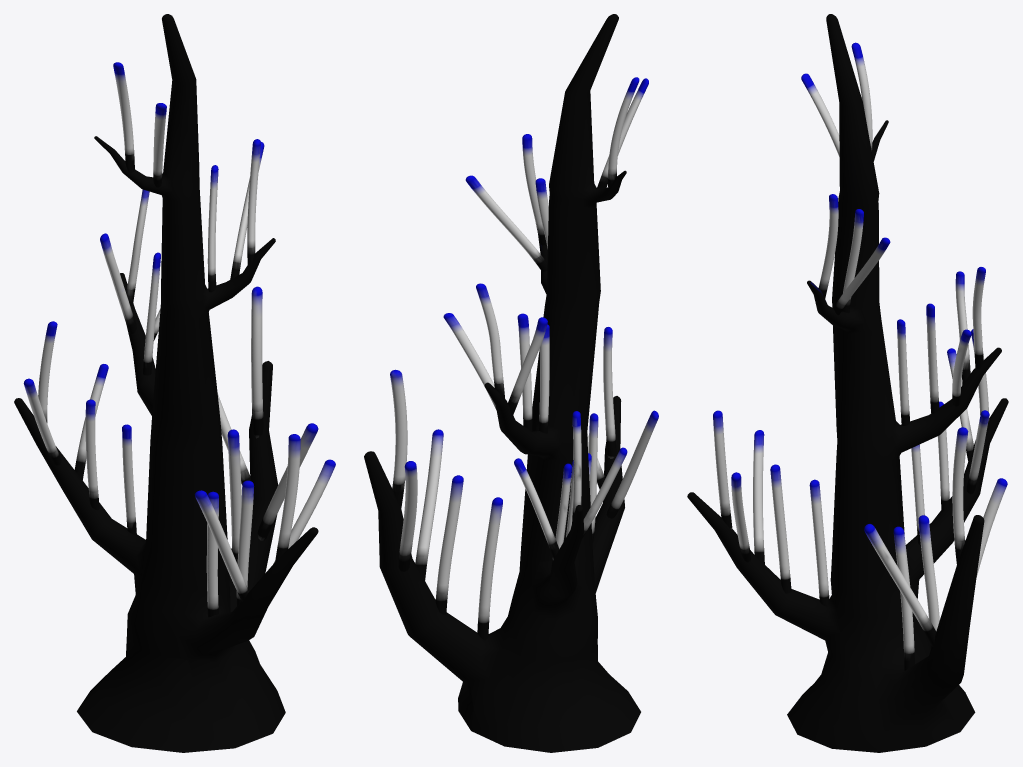
Rendered from SM_Tree_01.FBX.
3 views of the same model, side by side, from view 1: azimuth 30°, elevation 25°; view 2: azimuth 150°, elevation 25°; view 3: azimuth 270°, elevation 25° (orthographic). The views are drawn at different scales.
Parts seen in each view (by area): view 1: arbre014; view 2: arbre014; view 3: arbre014.
Boxes of the visible parts, box(x1,y1,x2,y2) form: arbre014: box(14, 14, 335, 752); arbre014: box(364, 14, 658, 752); arbre014: box(687, 14, 1008, 752).
Bounding box in the file's own units: 39.06 × 103 × 44.29.
